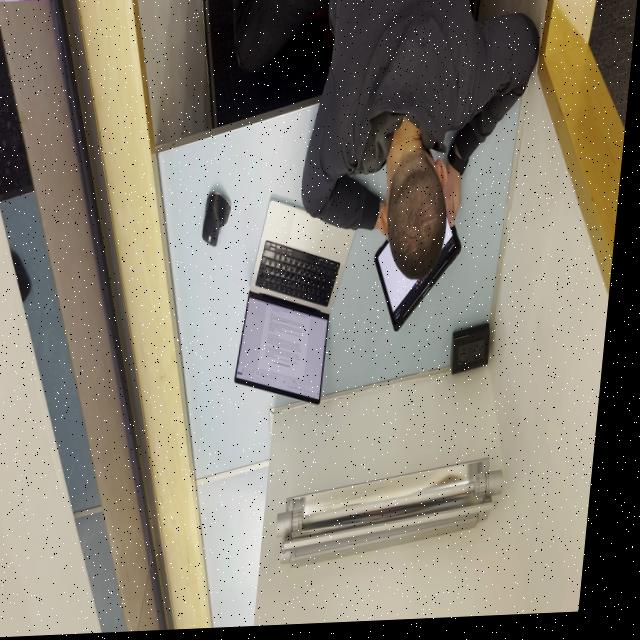bag: (369, 206, 472, 336)
ipad: (211, 0, 547, 291)
laptop: (240, 197, 365, 413)
mouse: (206, 192, 237, 250)
